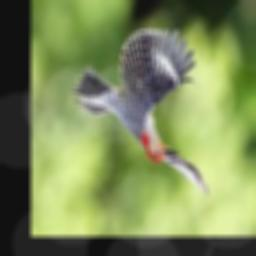Woodpecker: (74, 29, 209, 199)
